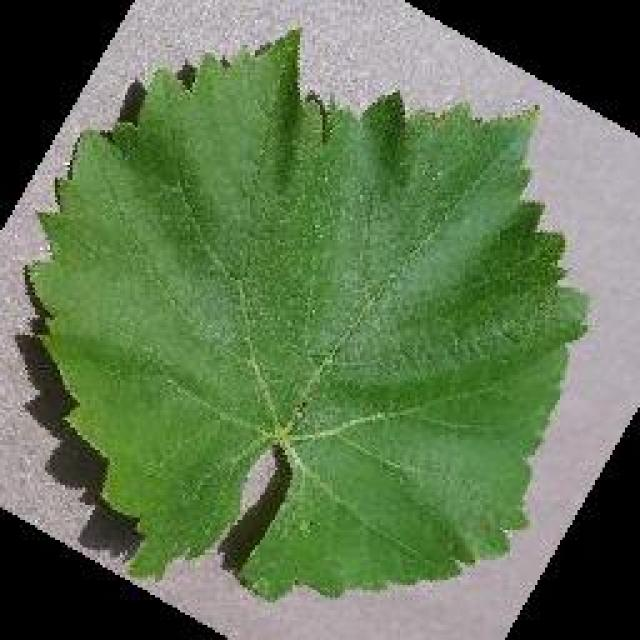Grape___healthy: (30, 32, 585, 595)
